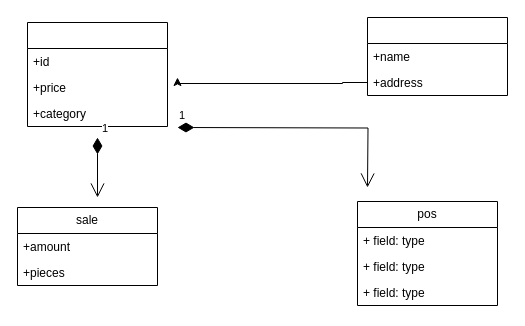
The diagram is 525 pixels wide and 326 high, and some of its shapes have lost their labels. The box of each missing label's shape, as (x1, y1, x2, y2) in pixels:
customer: (366, 16, 508, 96)
product: (26, 22, 168, 126)
